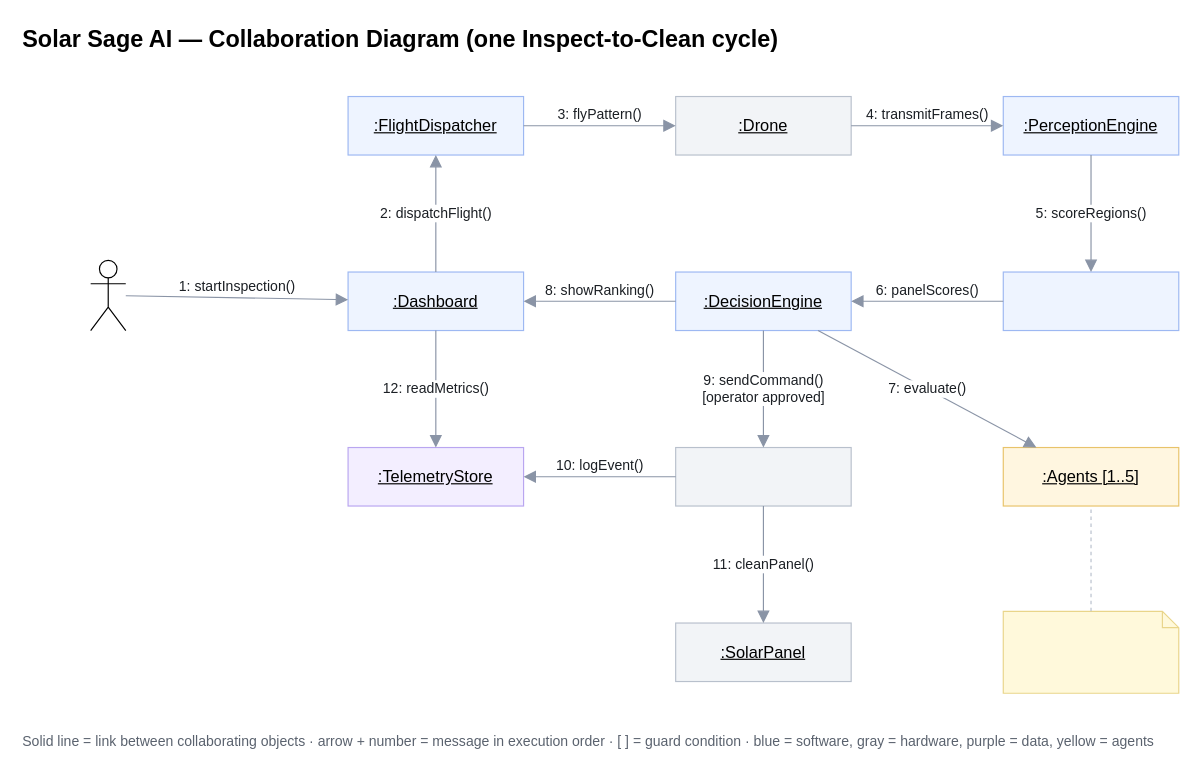
Some shapes in this 1199 by 776 pixel diagram are drawn without their labels. Each missing label, with the centre of its shape:
:DirtScorer: (x=1090, y=301)
:ESP32Controller: (x=763, y=476)
Confidence · Priority · Benchmarking · Impact & ROI · Water & Action: (x=1090, y=651)
Operator: (x=108, y=295)
